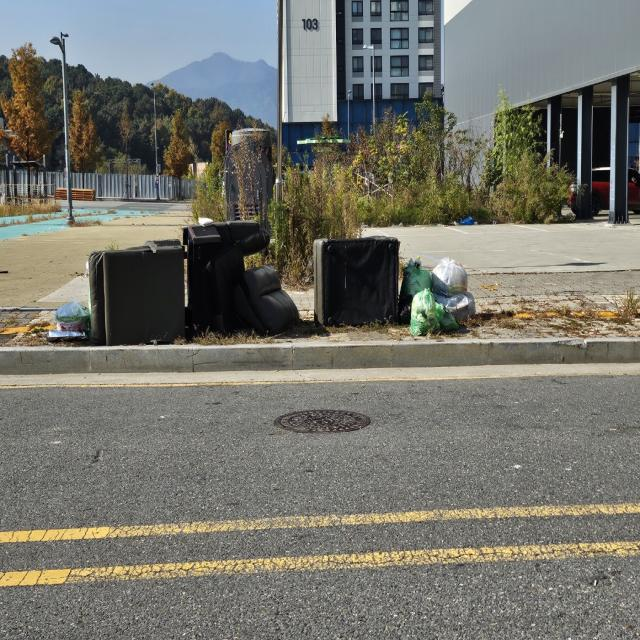General Waste: (401, 254, 475, 334)
Large Waste Items: (192, 223, 300, 336), (82, 237, 186, 340), (314, 234, 399, 326)
